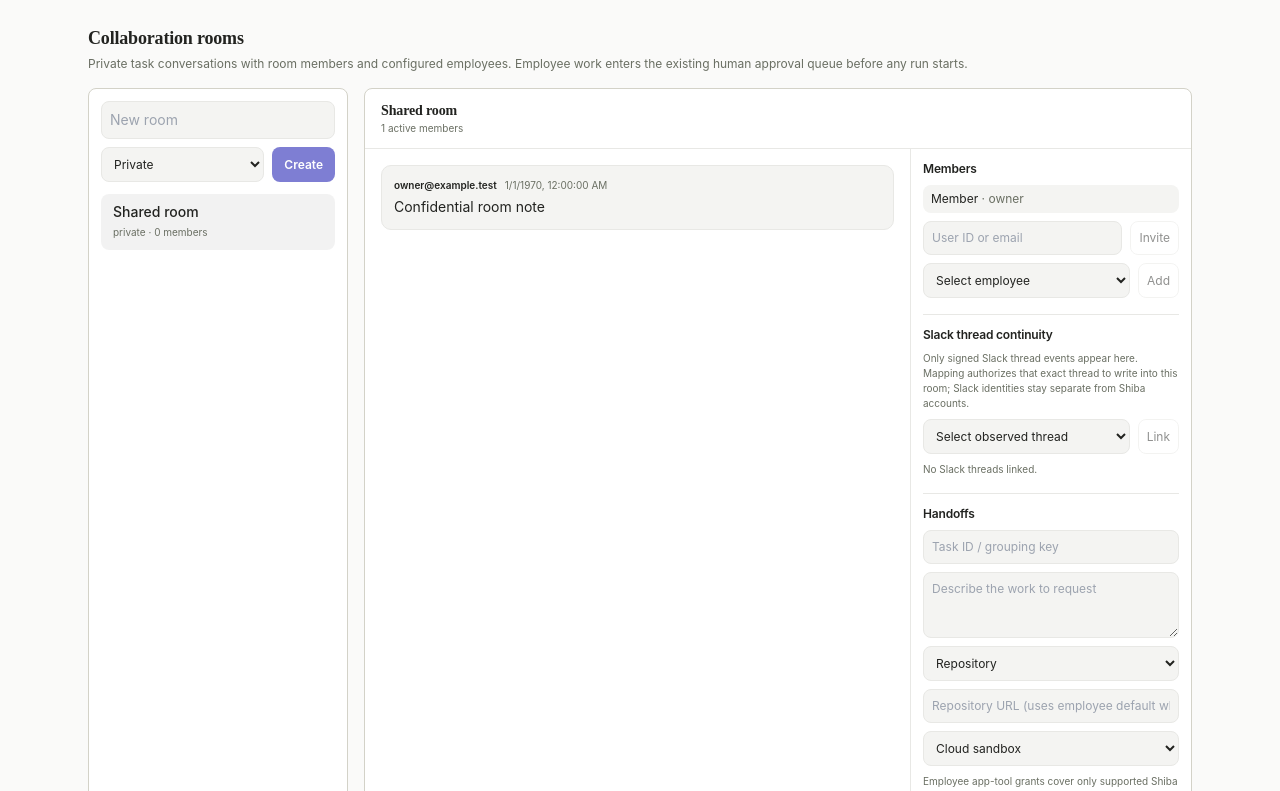
Test case: CollaborationView room access polling › lets a room owner map only an observed Slack thread and shows link status
Select "T123 / C123 / 1710000000.000100" in the dropdown named "Verified Slack thread": (1026, 436) [923,419,1130,454]
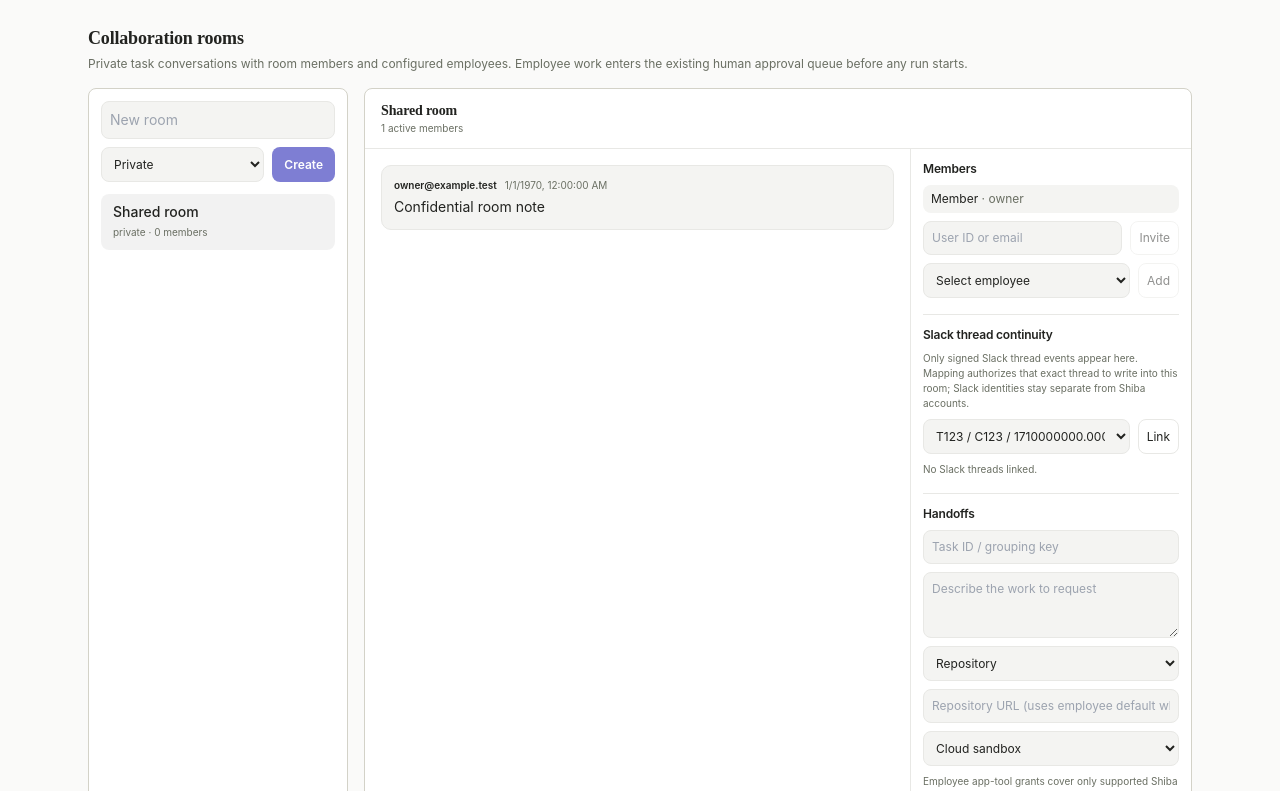
Click the button "Link": (1158, 436) [1138,419,1179,454]
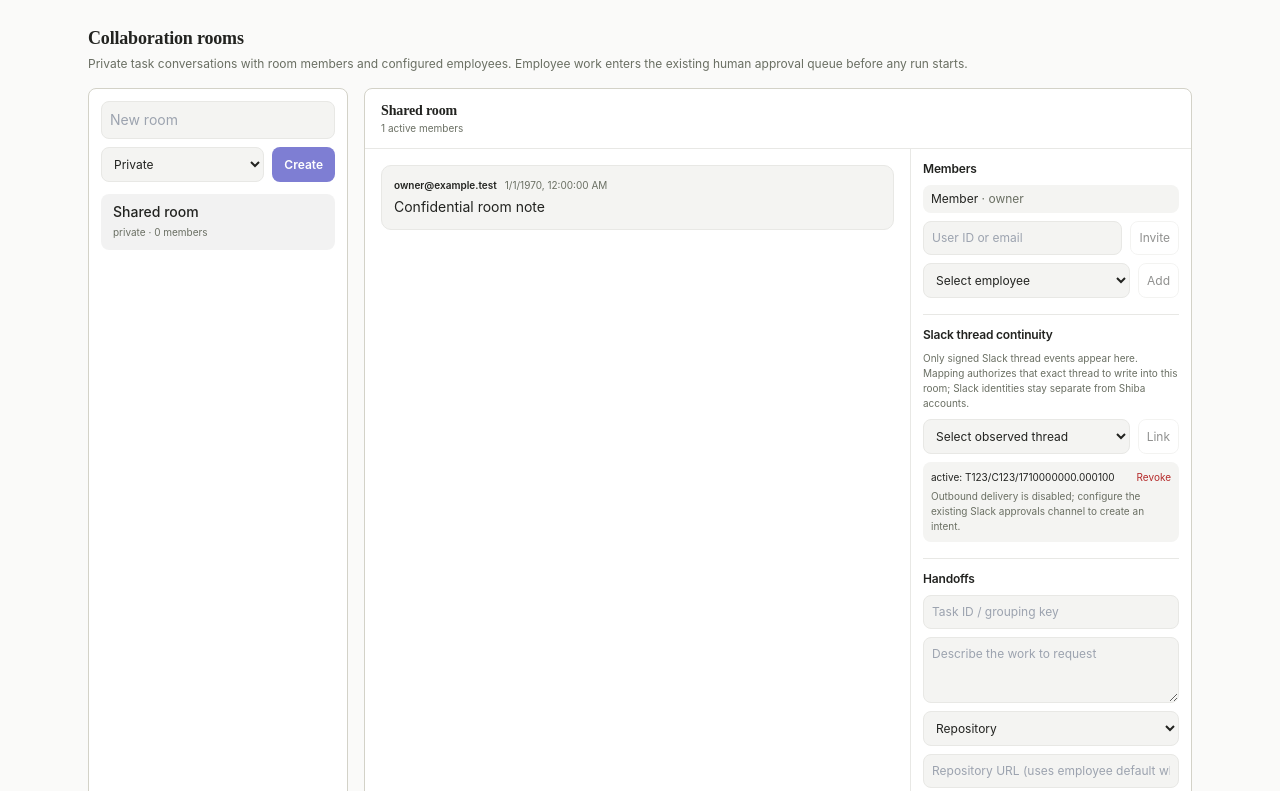
Expected: the text "active: T123/C123/1710000000.000100" is shown, [931,470,1115,485]
Expected: the text "Outbound delivery is disabled" is shown, [931,490,1144,532]
